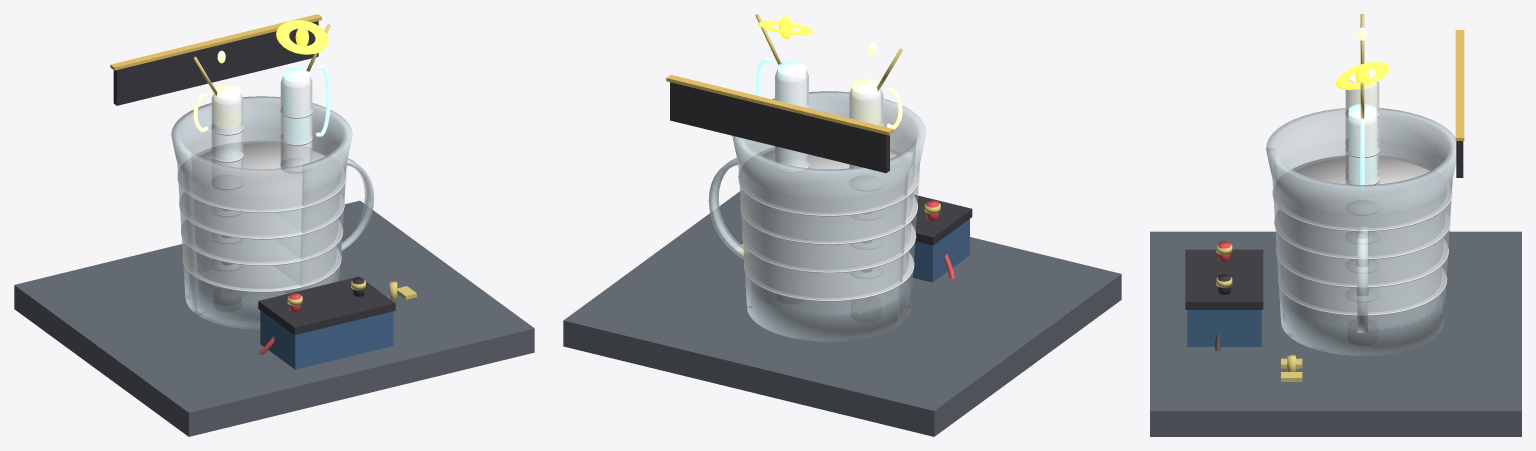
Rendered from water-electrolysis-apparatus.glb.
The picture shows the model from 3 angles, left to right: view 1: azimuth 30°, elevation 25°; view 2: azimuth 150°, elevation 25°; view 3: azimuth 270°, elevation 25°; orthographic projection. The views are drawn at different scales.
Parts seen in each view (by area): view 1: water-electrolysis-apparatus-plinth, water-electrolysis-apparatus-mug, water-electrolysis-apparatus-sec-mug, water-electrolysis-apparatus-mug-grad-4, water-electrolysis-apparatus-sec-plaque-bg, water-electrolysis-apparatus-battery-body, water-electrolysis-apparatus-battery-lid, water-electrolysis-apparatus-mug-grad-3, water-electrolysis-apparatus-mug-grad-2, water-electrolysis-apparatus-mug-grad-1, water-electrolysis-apparatus-cathode-glass, water-electrolysis-apparatus-sec-cathode-glass (+11 smaller); view 2: water-electrolysis-apparatus-plinth, water-electrolysis-apparatus-mug, water-electrolysis-apparatus-sec-mug, water-electrolysis-apparatus-sec-plaque-bg, water-electrolysis-apparatus-mug-grad-4, water-electrolysis-apparatus-mug-grad-3, water-electrolysis-apparatus-mug-grad-2, water-electrolysis-apparatus-mug-grad-1, water-electrolysis-apparatus-battery-body, water-electrolysis-apparatus-sec-plaque-trim, water-electrolysis-apparatus-battery-lid, water-electrolysis-apparatus-cathode-glass (+8 smaller); view 3: water-electrolysis-apparatus-plinth, water-electrolysis-apparatus-mug, water-electrolysis-apparatus-sec-mug, water-electrolysis-apparatus-mug-grad-4, water-electrolysis-apparatus-battery-lid, water-electrolysis-apparatus-mug-grad-3, water-electrolysis-apparatus-mug-grad-2, water-electrolysis-apparatus-mug-grad-1, water-electrolysis-apparatus-battery-body, water-electrolysis-apparatus-cathode-glass, water-electrolysis-apparatus-sec-cathode-glass, water-electrolysis-apparatus-cathode-gas-headspace (+10 smaller).
Boxes of the visible parts, left/top/right/bottom form: water-electrolysis-apparatus-plinth: left=14, top=200, right=534, bottom=436; water-electrolysis-apparatus-mug: left=171, top=96, right=352, bottom=329; water-electrolysis-apparatus-sec-mug: left=171, top=96, right=352, bottom=312; water-electrolysis-apparatus-mug-grad-4: left=177, top=141, right=346, bottom=212; water-electrolysis-apparatus-sec-plaque-bg: left=113, top=21, right=318, bottom=105; water-electrolysis-apparatus-battery-body: left=260, top=310, right=393, bottom=369; water-electrolysis-apparatus-battery-lid: left=258, top=276, right=395, bottom=335; water-electrolysis-apparatus-mug-grad-3: left=179, top=192, right=344, bottom=239; water-electrolysis-apparatus-mug-grad-2: left=181, top=219, right=343, bottom=265; water-electrolysis-apparatus-mug-grad-1: left=182, top=247, right=341, bottom=292; water-electrolysis-apparatus-cathode-glass: left=281, top=76, right=311, bottom=167; water-electrolysis-apparatus-sec-cathode-glass: left=281, top=77, right=311, bottom=167; water-electrolysis-apparatus-plinth: left=563, top=190, right=1121, bottom=436; water-electrolysis-apparatus-mug: left=732, top=91, right=926, bottom=341; water-electrolysis-apparatus-sec-mug: left=732, top=91, right=912, bottom=341; water-electrolysis-apparatus-sec-plaque-bg: left=670, top=82, right=889, bottom=173; water-electrolysis-apparatus-mug-grad-4: left=738, top=146, right=919, bottom=216; water-electrolysis-apparatus-mug-grad-3: left=740, top=194, right=917, bottom=244; water-electrolysis-apparatus-mug-grad-2: left=742, top=223, right=916, bottom=272; water-electrolysis-apparatus-mug-grad-1: left=744, top=252, right=914, bottom=301; water-electrolysis-apparatus-battery-body: left=909, top=219, right=969, bottom=282; water-electrolysis-apparatus-sec-plaque-trim: left=666, top=75, right=893, bottom=135; water-electrolysis-apparatus-battery-lid: left=911, top=195, right=972, bottom=245; water-electrolysis-apparatus-cathode-glass: left=775, top=69, right=808, bottom=167; water-electrolysis-apparatus-plinth: left=1150, top=231, right=1521, bottom=436; water-electrolysis-apparatus-mug: left=1266, top=108, right=1456, bottom=355; water-electrolysis-apparatus-sec-mug: left=1266, top=108, right=1455, bottom=355; water-electrolysis-apparatus-mug-grad-4: left=1272, top=155, right=1452, bottom=231; water-electrolysis-apparatus-battery-lid: left=1185, top=249, right=1263, bottom=309; water-electrolysis-apparatus-mug-grad-3: left=1274, top=209, right=1450, bottom=259; water-electrolysis-apparatus-mug-grad-2: left=1276, top=238, right=1448, bottom=287; water-electrolysis-apparatus-mug-grad-1: left=1278, top=267, right=1447, bottom=315; water-electrolysis-apparatus-battery-body: left=1187, top=310, right=1261, bottom=346; water-electrolysis-apparatus-cathode-glass: left=1346, top=113, right=1378, bottom=184; water-electrolysis-apparatus-sec-cathode-glass: left=1346, top=113, right=1378, bottom=184; water-electrolysis-apparatus-cathode-gas-headspace: left=1348, top=104, right=1376, bottom=183.
Size of the model in its own units: 0.24 by 0.189 by 0.21.
